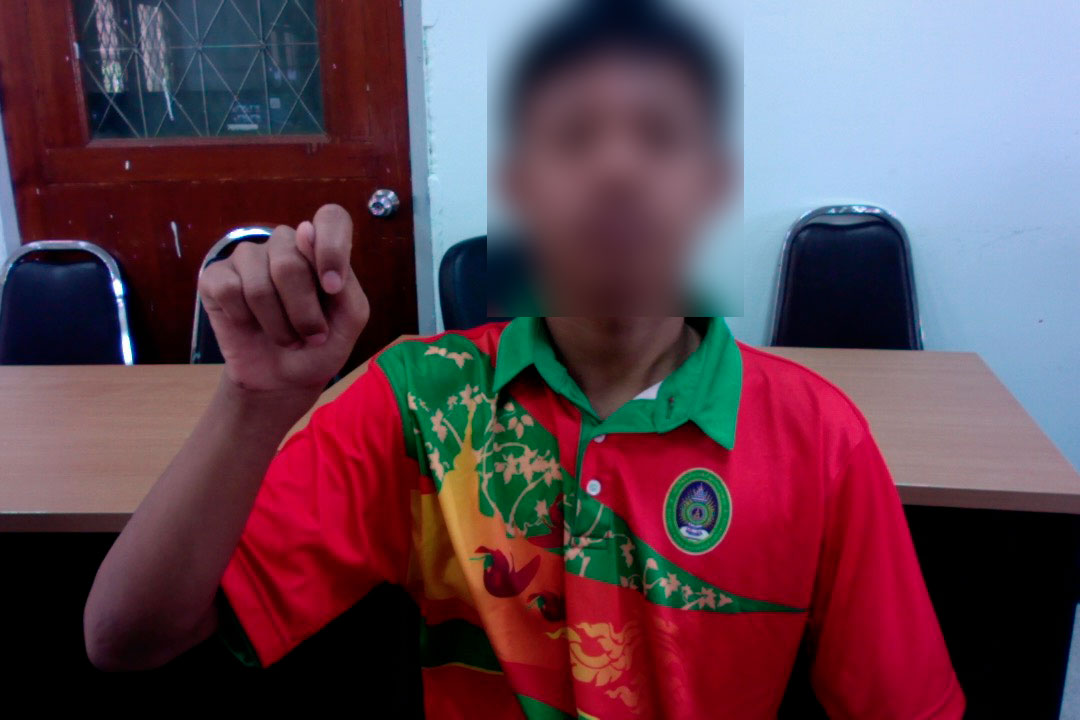tor: (193, 197, 375, 425)
